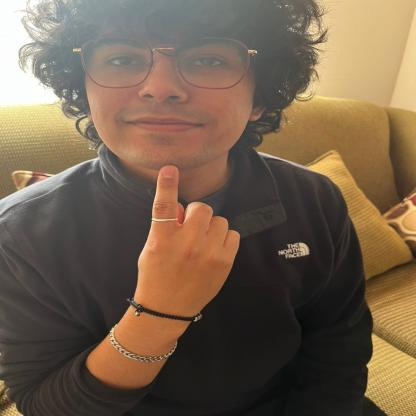T: (134, 158, 244, 316)
